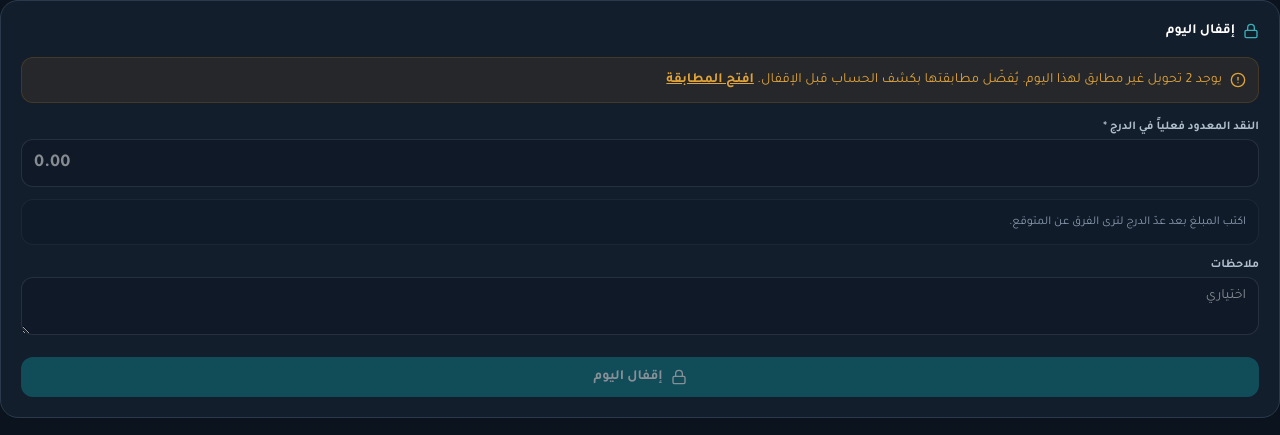
Test: CloseDayPanel › يعرض الفرق لحظياً: عجز ثم مطابق ثم مدخل غير صالح
The width and height of the screenshot is (1280, 435).
Expected: the button "إقفال اليوم" is disabled, [21,357,1259,397]
Type "1400" into the field labelled "النقد المعدود فعلياً في الدرج *" at coordinates (640, 163), box [21,139,1259,187]
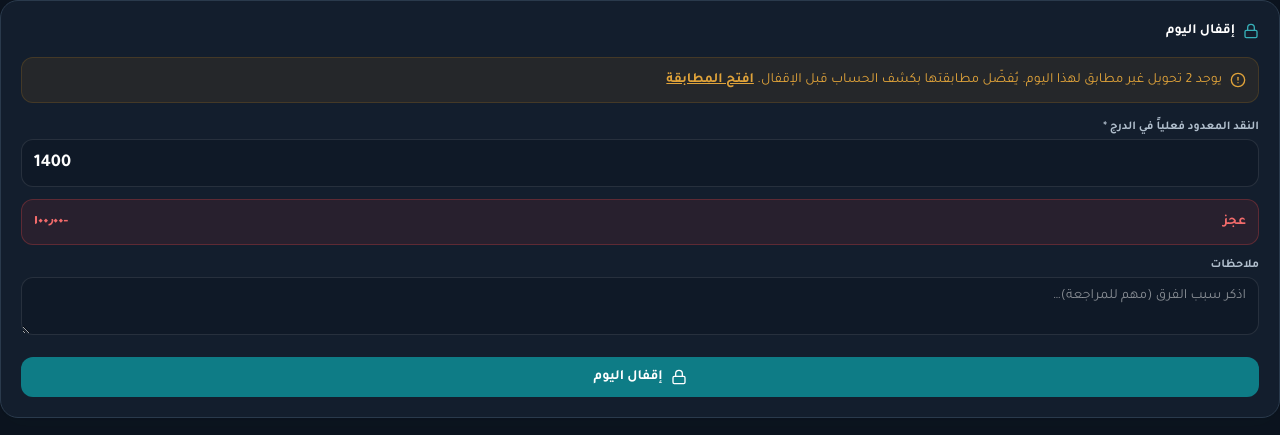
Result: the text "عجز" is shown at [1223,212,1246,232]
Result: the button "إقفال اليوم" is enabled at [21,357,1259,397]
Replace the text in the field labelled "النقد المعدود فعلياً في الدرج *" with "١٥٠٠" at coordinates (640, 163), box [21,139,1259,187]
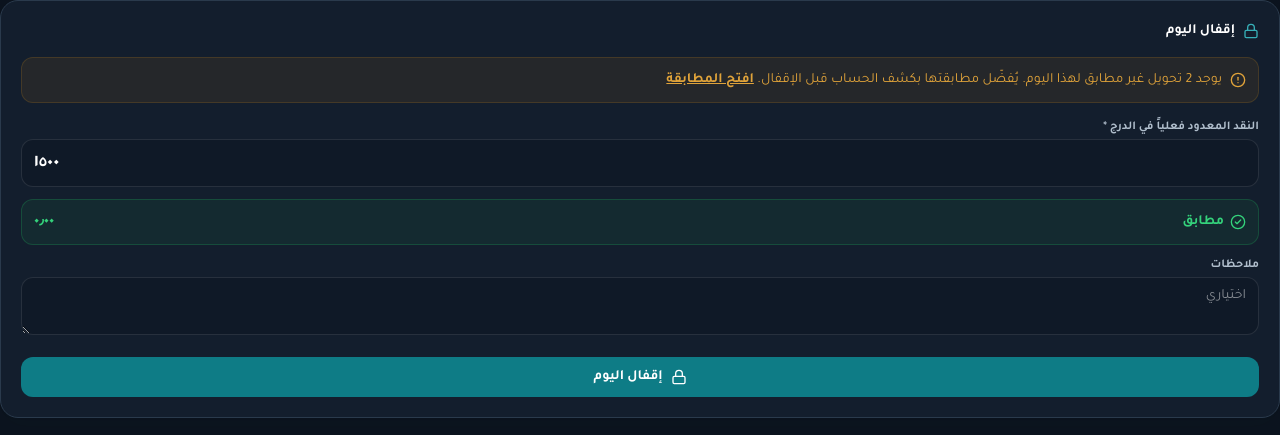
Result: the text "مطابق" is shown at [1182,212,1246,232]
Replace the text in the field labelled "النقد المعدود فعلياً في الدرج *" with "1600" at coordinates (640, 163), box [21,139,1259,187]
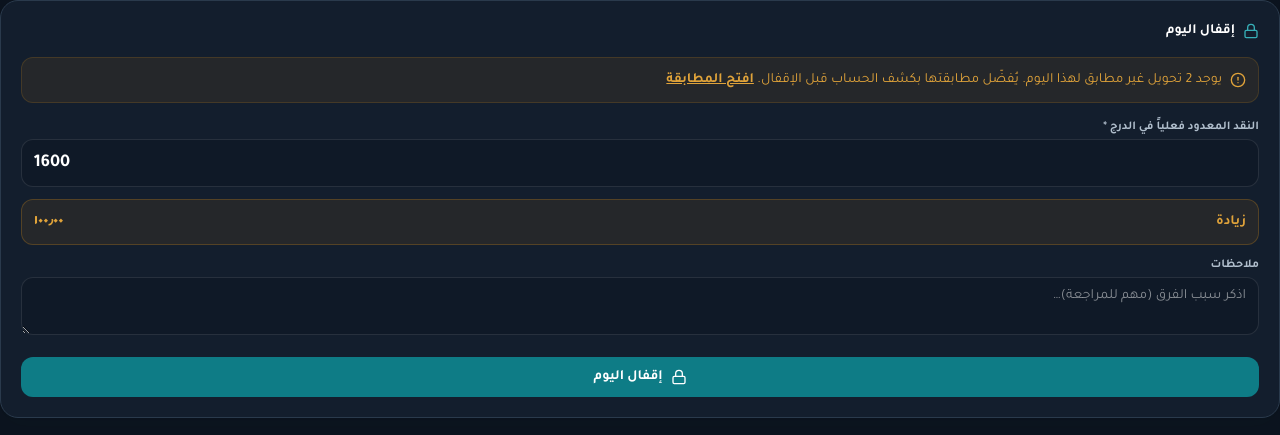
Result: the text "زيادة" is shown at [1216,212,1246,232]
Replace the text in the field labelled "النقد المعدود فعلياً في الدرج *" with "abc" at coordinates (640, 163), box [21,139,1259,187]
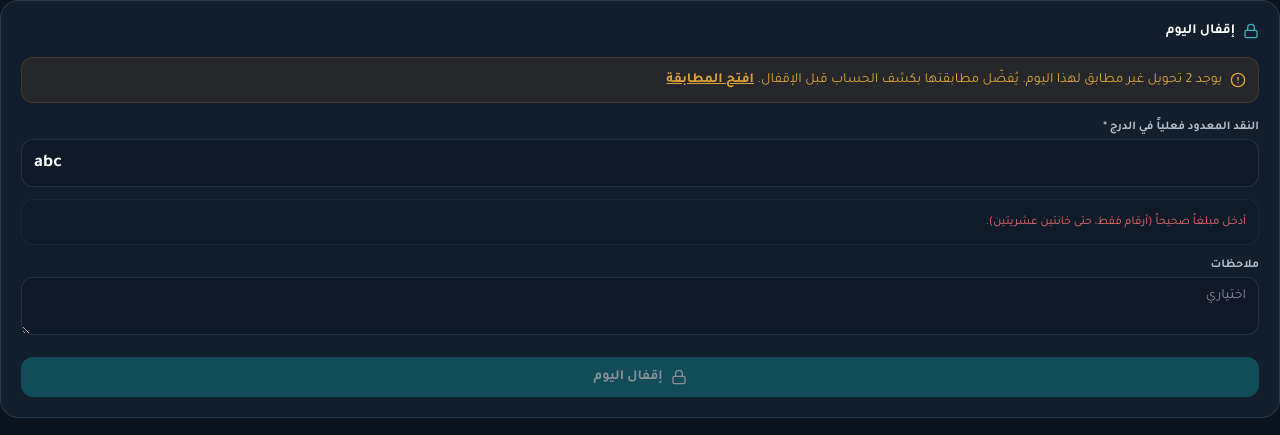
Result: the text "أدخل مبلغاً صحيحاً (أرقام فقط، حتى خانتين عشريتين)." is shown at [986,216,1246,228]
Result: the button "إقفال اليوم" is disabled at [21,357,1259,397]
